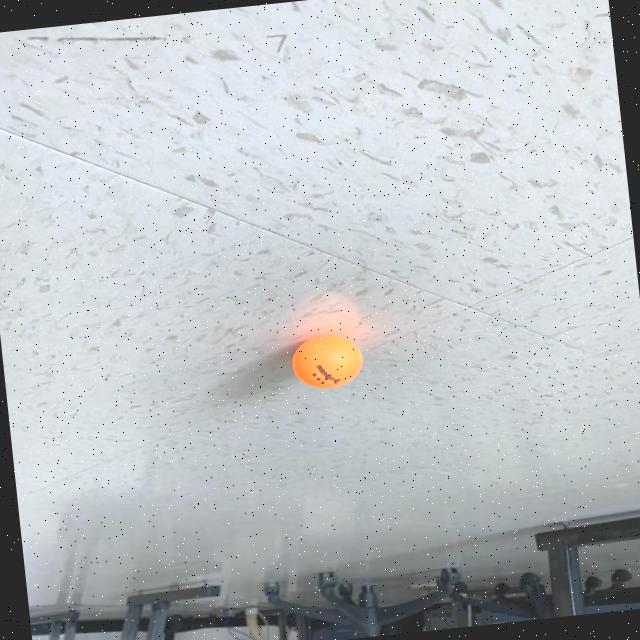ping-pong-ball: (285, 330, 369, 395)
